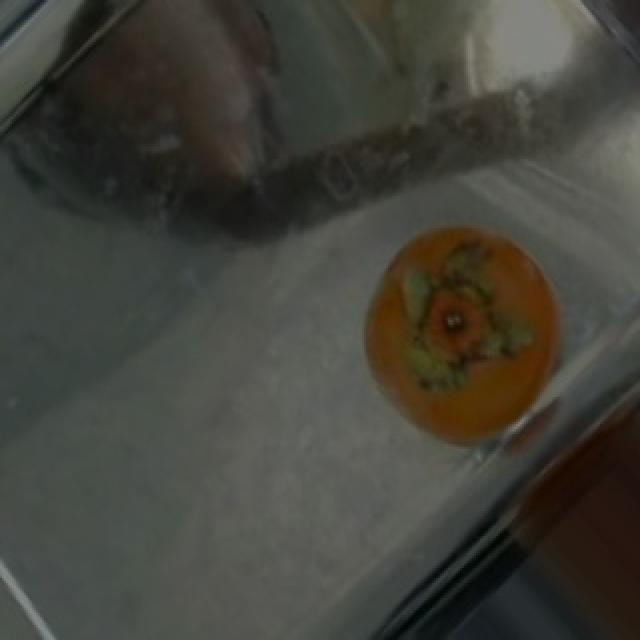Fruit: (334, 196, 588, 479)
